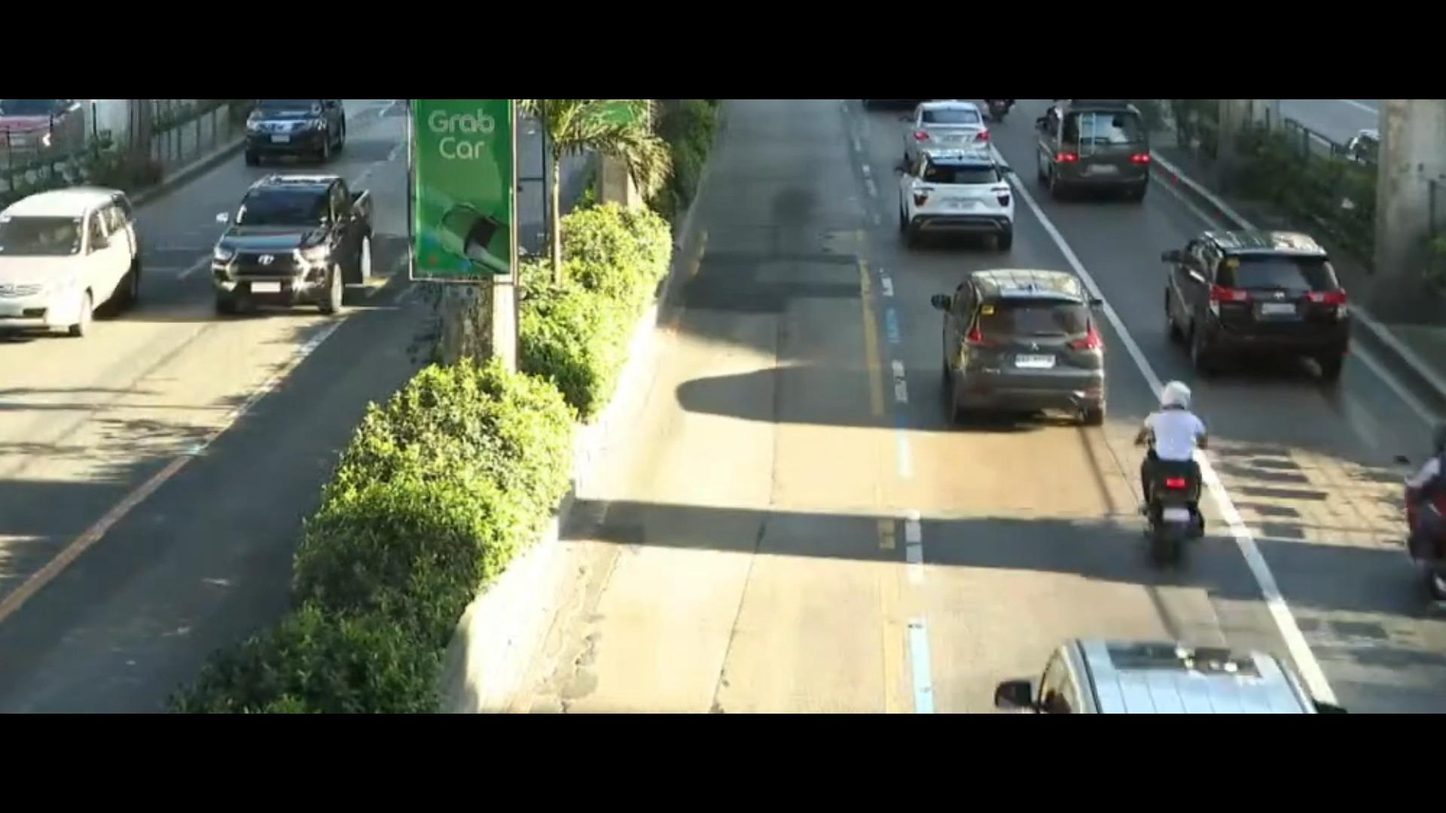Motorcycle: (1110, 359, 1222, 575)
Pickup: (188, 155, 392, 331)
SUV: (930, 247, 1117, 444), (1156, 211, 1371, 378), (0, 172, 160, 352), (881, 134, 1028, 259), (1027, 89, 1181, 208), (231, 102, 346, 166)
Sedan: (900, 96, 1001, 163)
